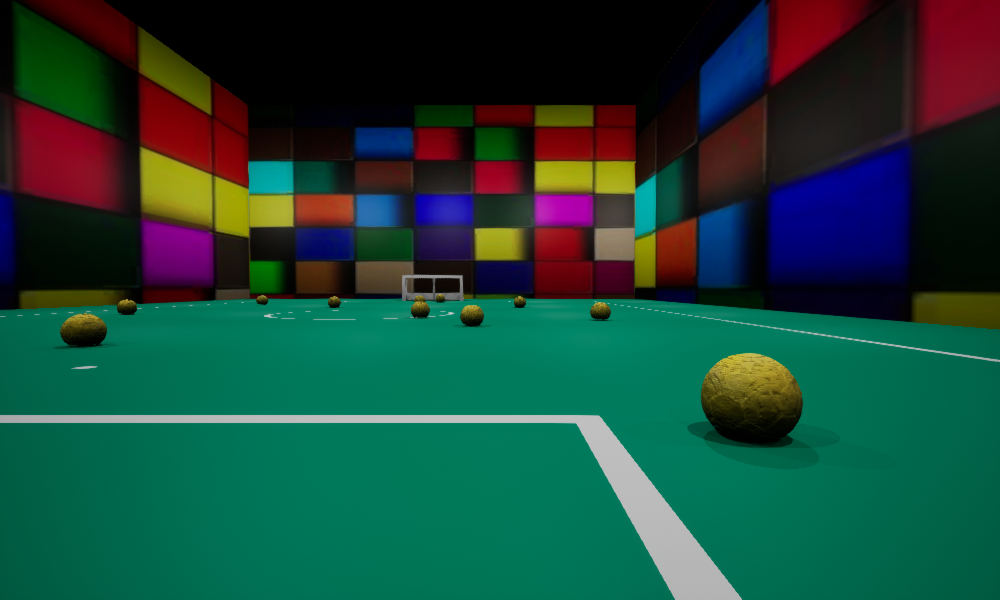b: (701, 353, 802, 440), (60, 313, 106, 346), (460, 305, 483, 324), (590, 302, 610, 319), (411, 301, 429, 317), (117, 299, 136, 313), (328, 296, 340, 306), (514, 296, 525, 306), (256, 295, 267, 304), (414, 295, 424, 301), (436, 294, 444, 301)
g: (402, 275, 463, 300)
